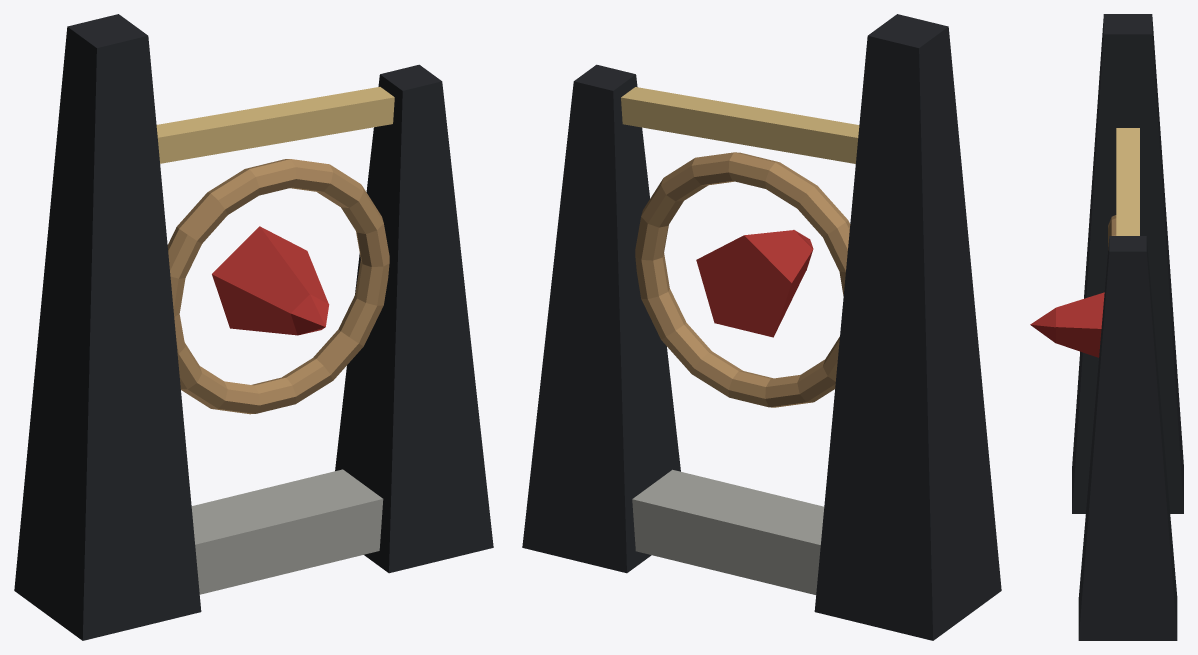
Rendered from TwinSpireSigil.glb.
3 views of the same model, side by side, from view 1: azimuth 30°, elevation 25°; view 2: azimuth 150°, elevation 25°; view 3: azimuth 270°, elevation 25° (orthographic). The views are drawn at different scales.
Visible parts, largest first — view 1: TwinSpireSigil; view 2: TwinSpireSigil; view 3: TwinSpireSigil.
Part boxes in pixels (x1,y1,x2,y2): TwinSpireSigil: [14, 14, 493, 640]; TwinSpireSigil: [522, 14, 1001, 640]; TwinSpireSigil: [1030, 14, 1183, 640].
Bounding box in the file's own units: 0.2969 × 0.3975 × 0.1168.
